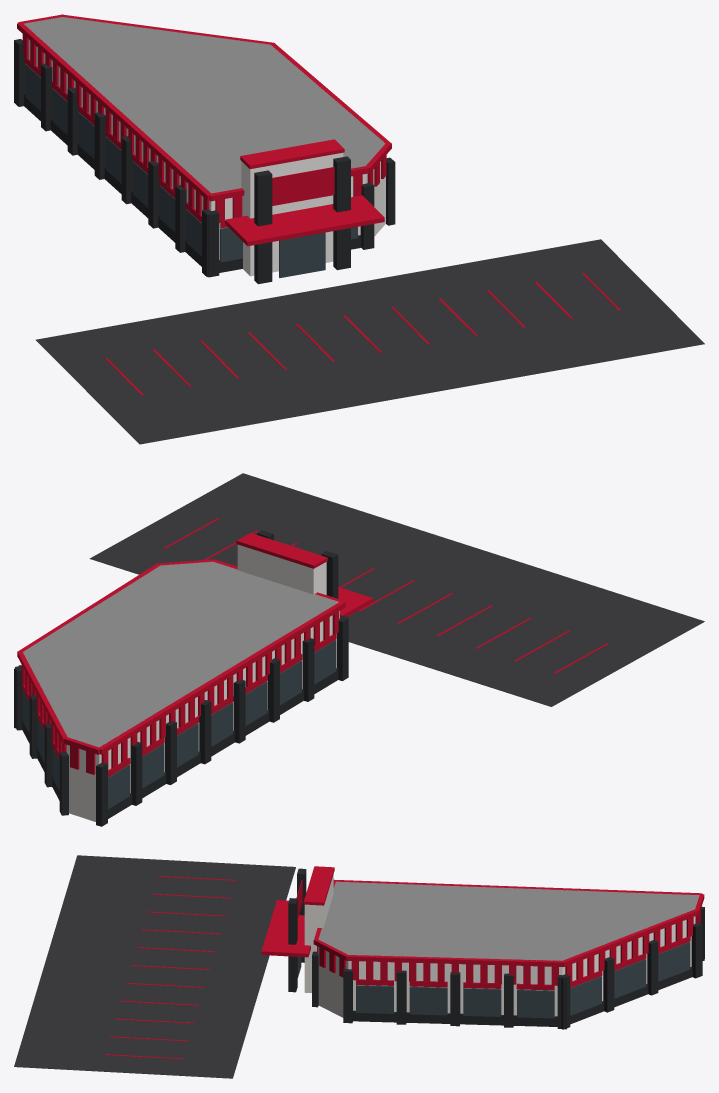
File: kfc4.glb
3 renders of one model, top to bottom at view 1: azimuth 30°, elevation 25°; view 2: azimuth 150°, elevation 25°; view 3: azimuth 270°, elevation 25°, orthographic. The views are drawn at different scales.
Parts seen in each view (by area): view 1: kfc4_lod0; view 2: kfc4_lod0; view 3: kfc4_lod0.
Boxes of the visible parts, x1=… form: kfc4_lod0: x1=14, y1=14, x2=704, y2=444; kfc4_lod0: x1=14, y1=473, x2=704, y2=826; kfc4_lod0: x1=14, y1=855, x2=704, y2=1078.
Size of what is drawn, in the model's own units: 33.5 by 6.4 by 43.85.
